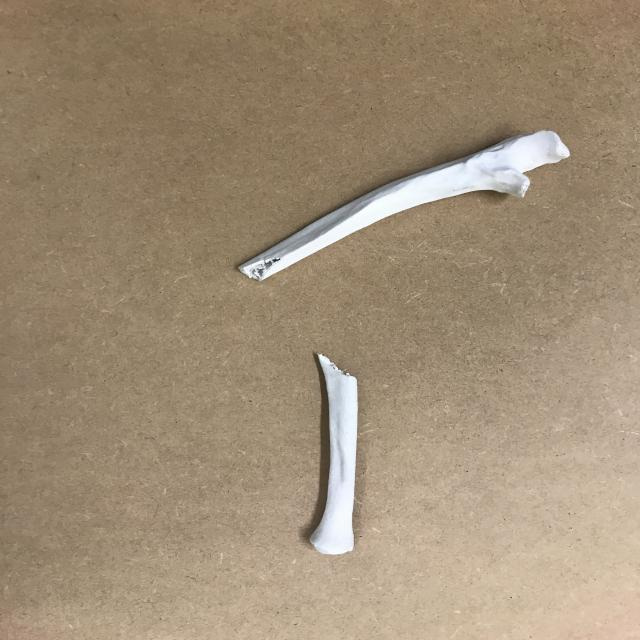bone: (233, 124, 578, 281), (303, 350, 367, 560)
